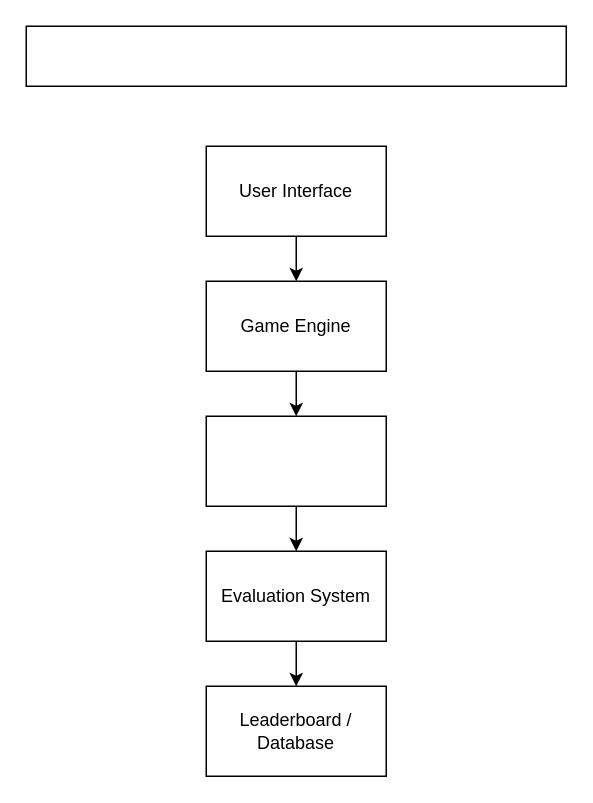
Some shapes in this 593 by 803 pixel diagram are drawn without their labels. Here are the shapes that lost their labels. From the top down, the centre of each, then its label:
(x=295, y=55): Core Engine Flow
(x=295, y=460): JSON Mission Loader
